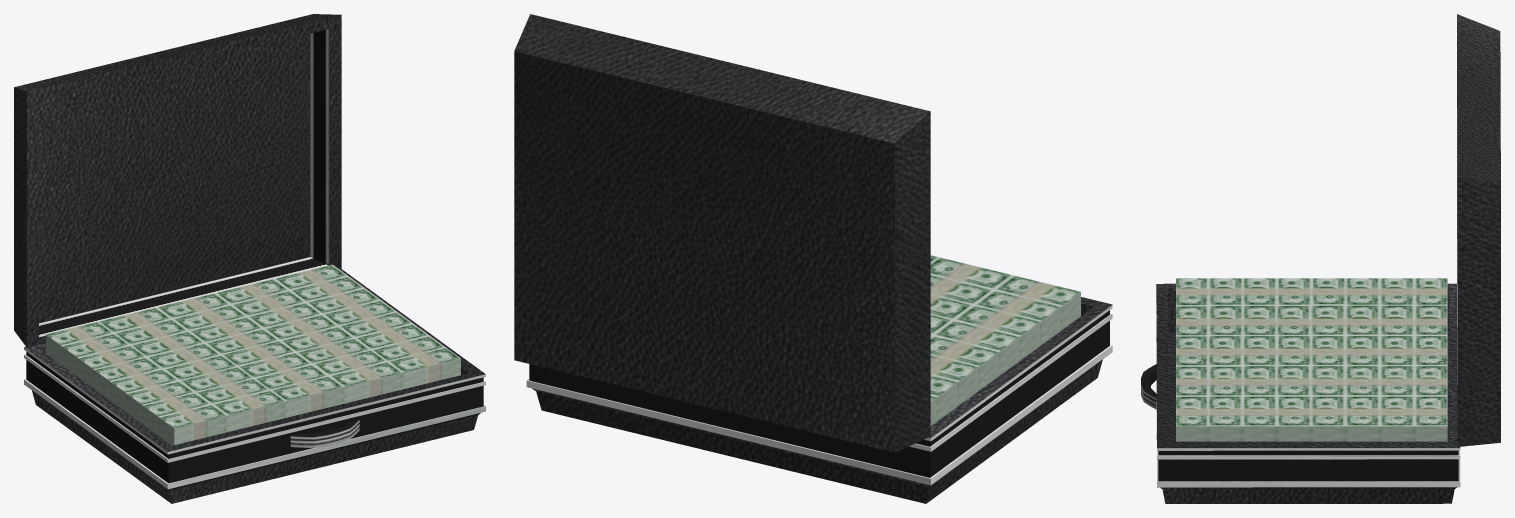
The model's file is briefcase_with_money.glb.
3 views of the same model, side by side, from view 1: azimuth 30°, elevation 25°; view 2: azimuth 150°, elevation 25°; view 3: azimuth 270°, elevation 25° (orthographic). The views are drawn at different scales.
Visible parts, largest first — view 1: Cubo.001; view 2: Cubo.001; view 3: Cubo.001.
Part boxes in pixels (bbox=[...]): Cubo.001: bbox=[14, 14, 485, 503]; Cubo.001: bbox=[514, 14, 1112, 503]; Cubo.001: bbox=[1141, 14, 1500, 503].
Size of the model in its own units: 0.387 by 0.3628 by 0.3581.
1 material, 1 textured.
